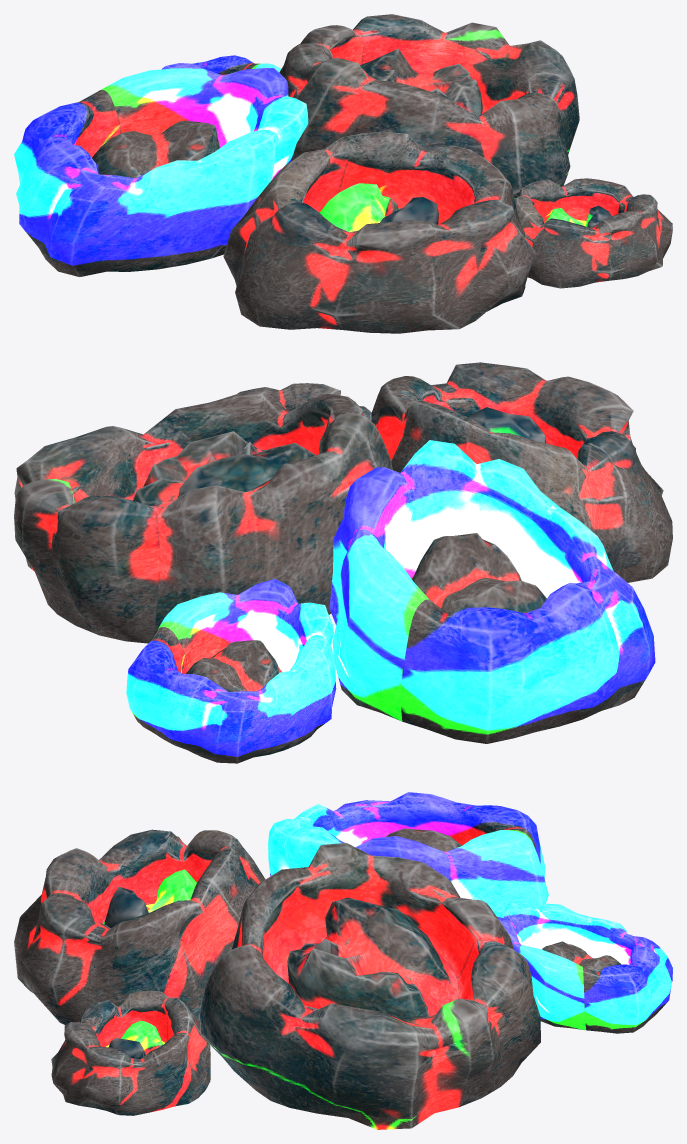
File: SM_Barnacle_A_02.fbx
3 renders of one model, top to bottom at view 1: azimuth 30°, elevation 25°; view 2: azimuth 150°, elevation 25°; view 3: azimuth 270°, elevation 25°, orthographic. The views are drawn at different scales.
Visible parts, largest first — view 1: SM_Barnacle_A_02_LOD0; view 2: SM_Barnacle_A_02_LOD0; view 3: SM_Barnacle_A_02_LOD0.
Boxes of the visible parts, bbox=[...] form: SM_Barnacle_A_02_LOD0: bbox=[14, 14, 672, 333]; SM_Barnacle_A_02_LOD0: bbox=[14, 362, 672, 763]; SM_Barnacle_A_02_LOD0: bbox=[14, 792, 672, 1129].
Bounding box in the file's own units: 65.26 × 69.41 × 19.83.
Materials: 1 (1 with a texture image).
